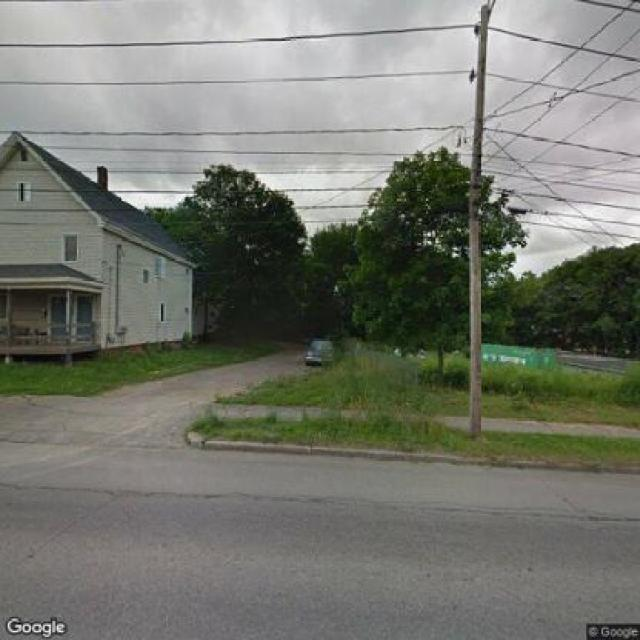pole: (446, 0, 519, 434)
